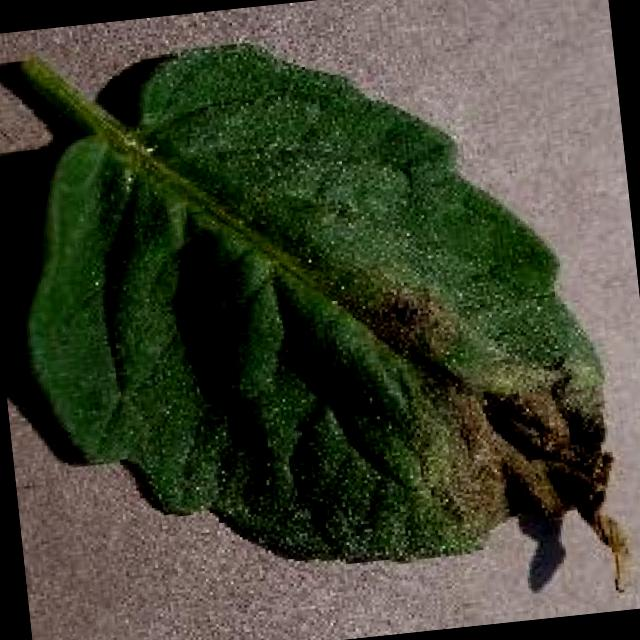leaf blight: (9, 37, 640, 587)
